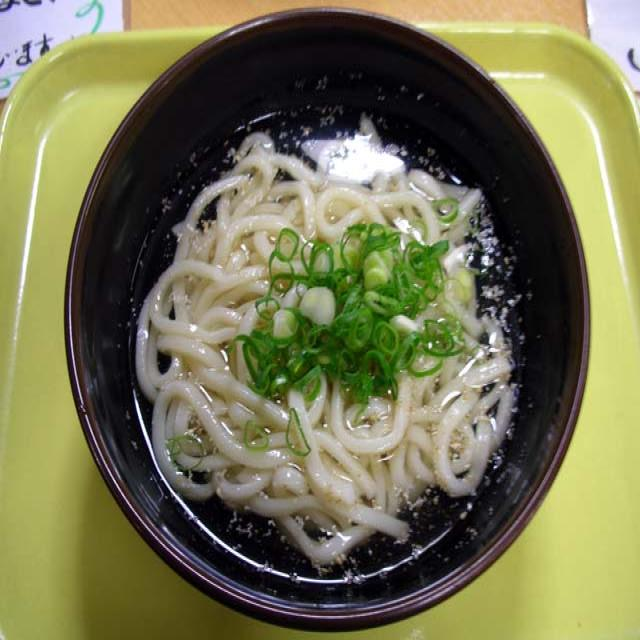面条主食: (121, 72, 546, 597)
